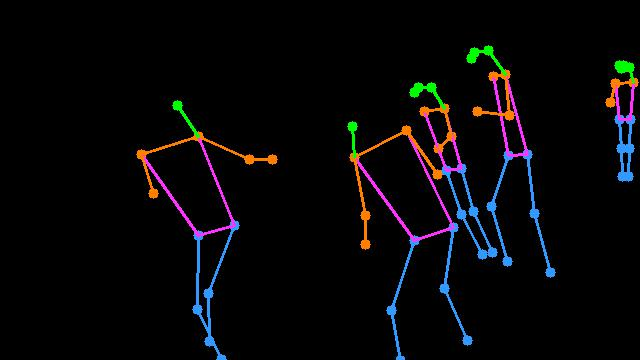normal: (127, 87, 288, 360), (459, 34, 572, 284), (602, 52, 640, 191)
